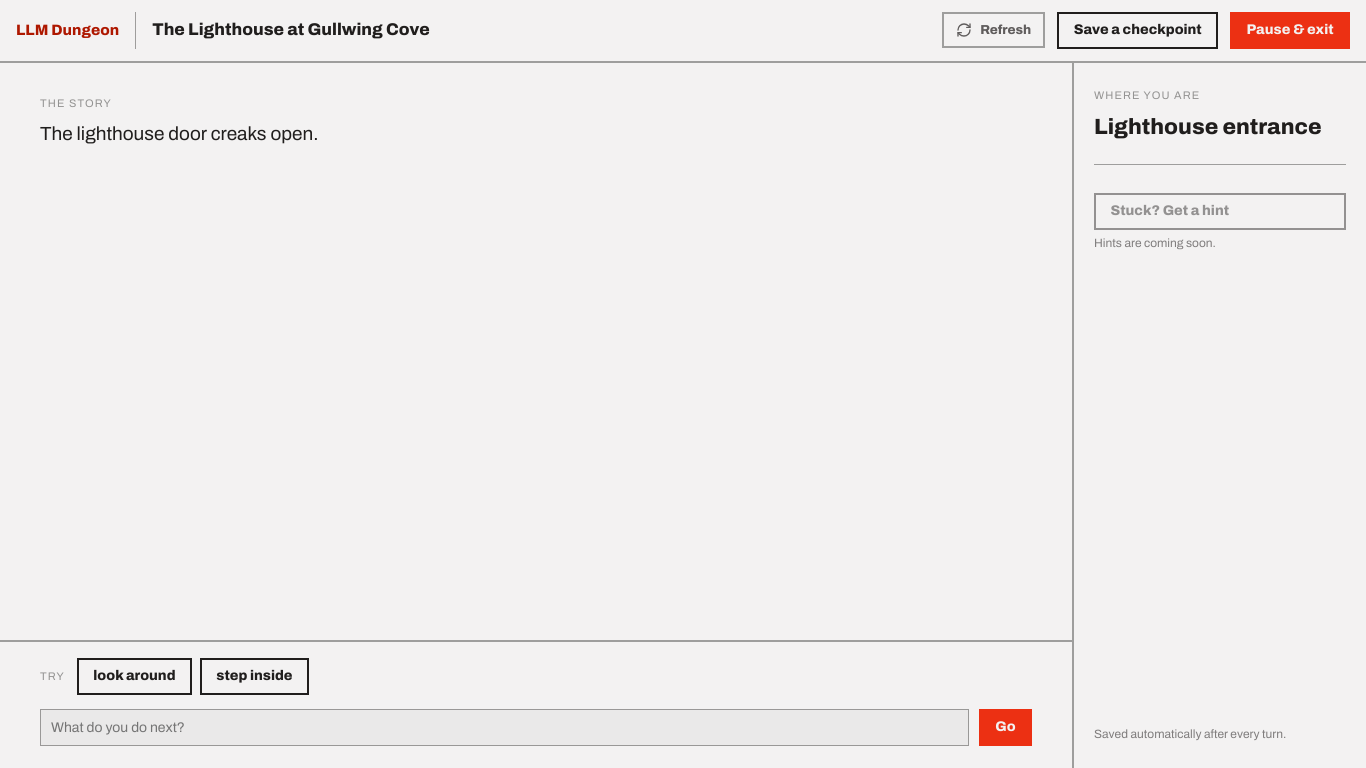
Play surface inside the /game layout (FR-016, SC-013) › lets the player cancel out of the pause dialog and keep playing
Click the button "Pause & exit" at (1290, 30), box [1230,12,1350,49]
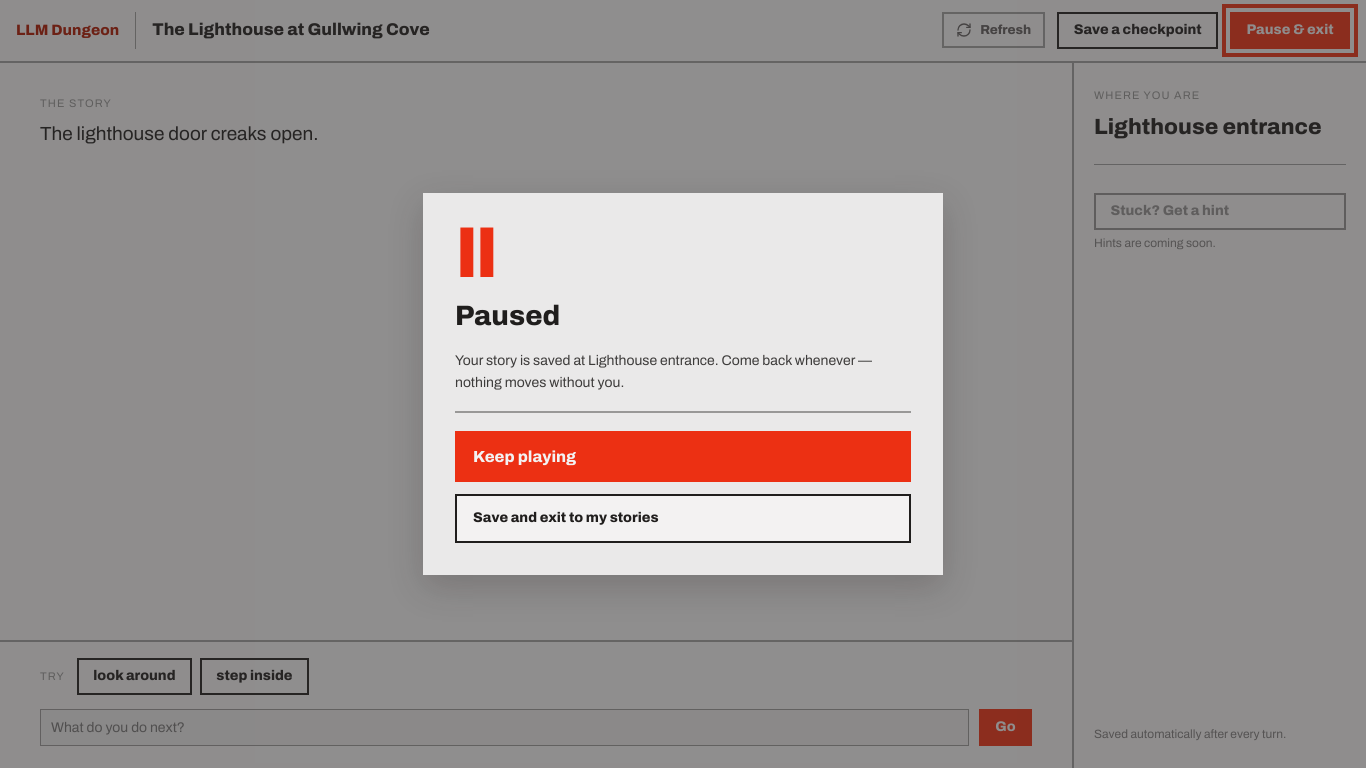
Click the button "Keep playing" at (525, 457), box [455,431,911,482]
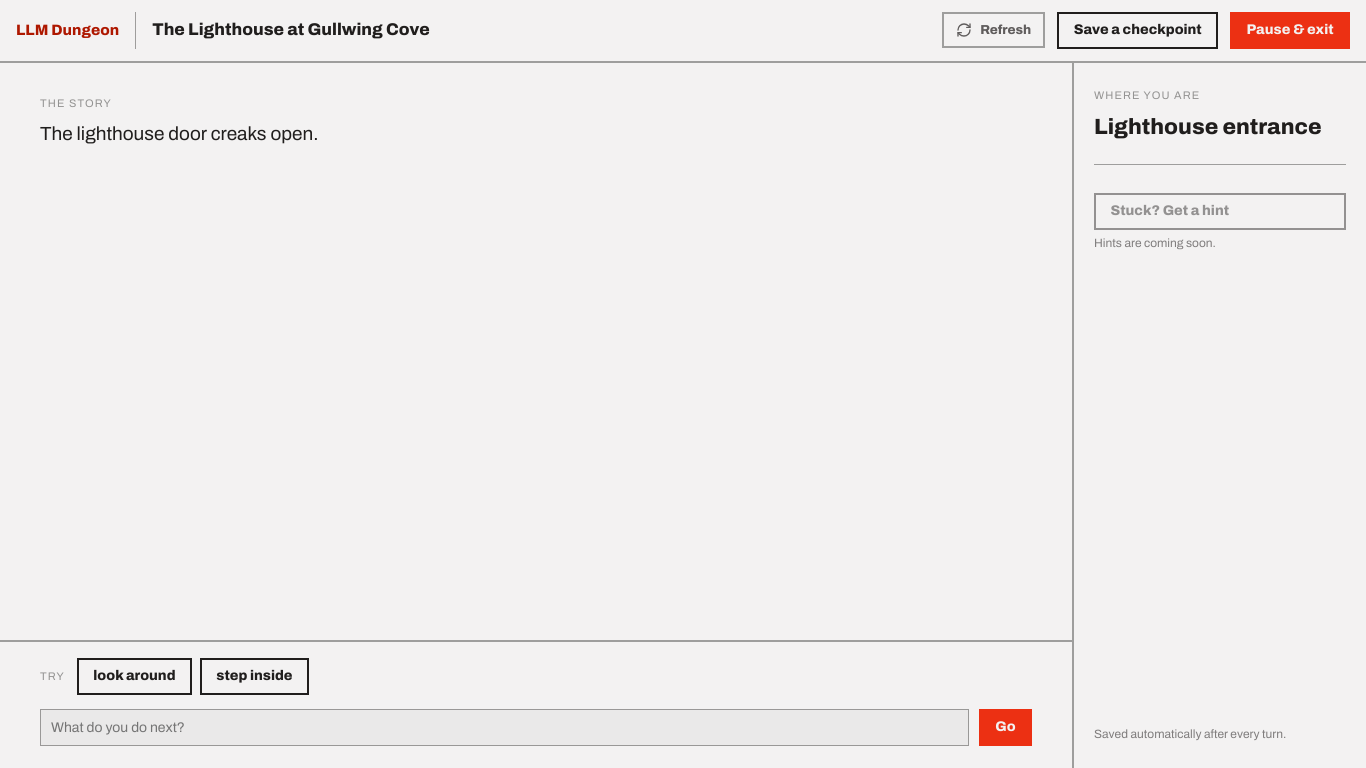
Expected: the field labelled "What do you do next?" is shown, [40,709,969,746]
Now the dialog is gone
